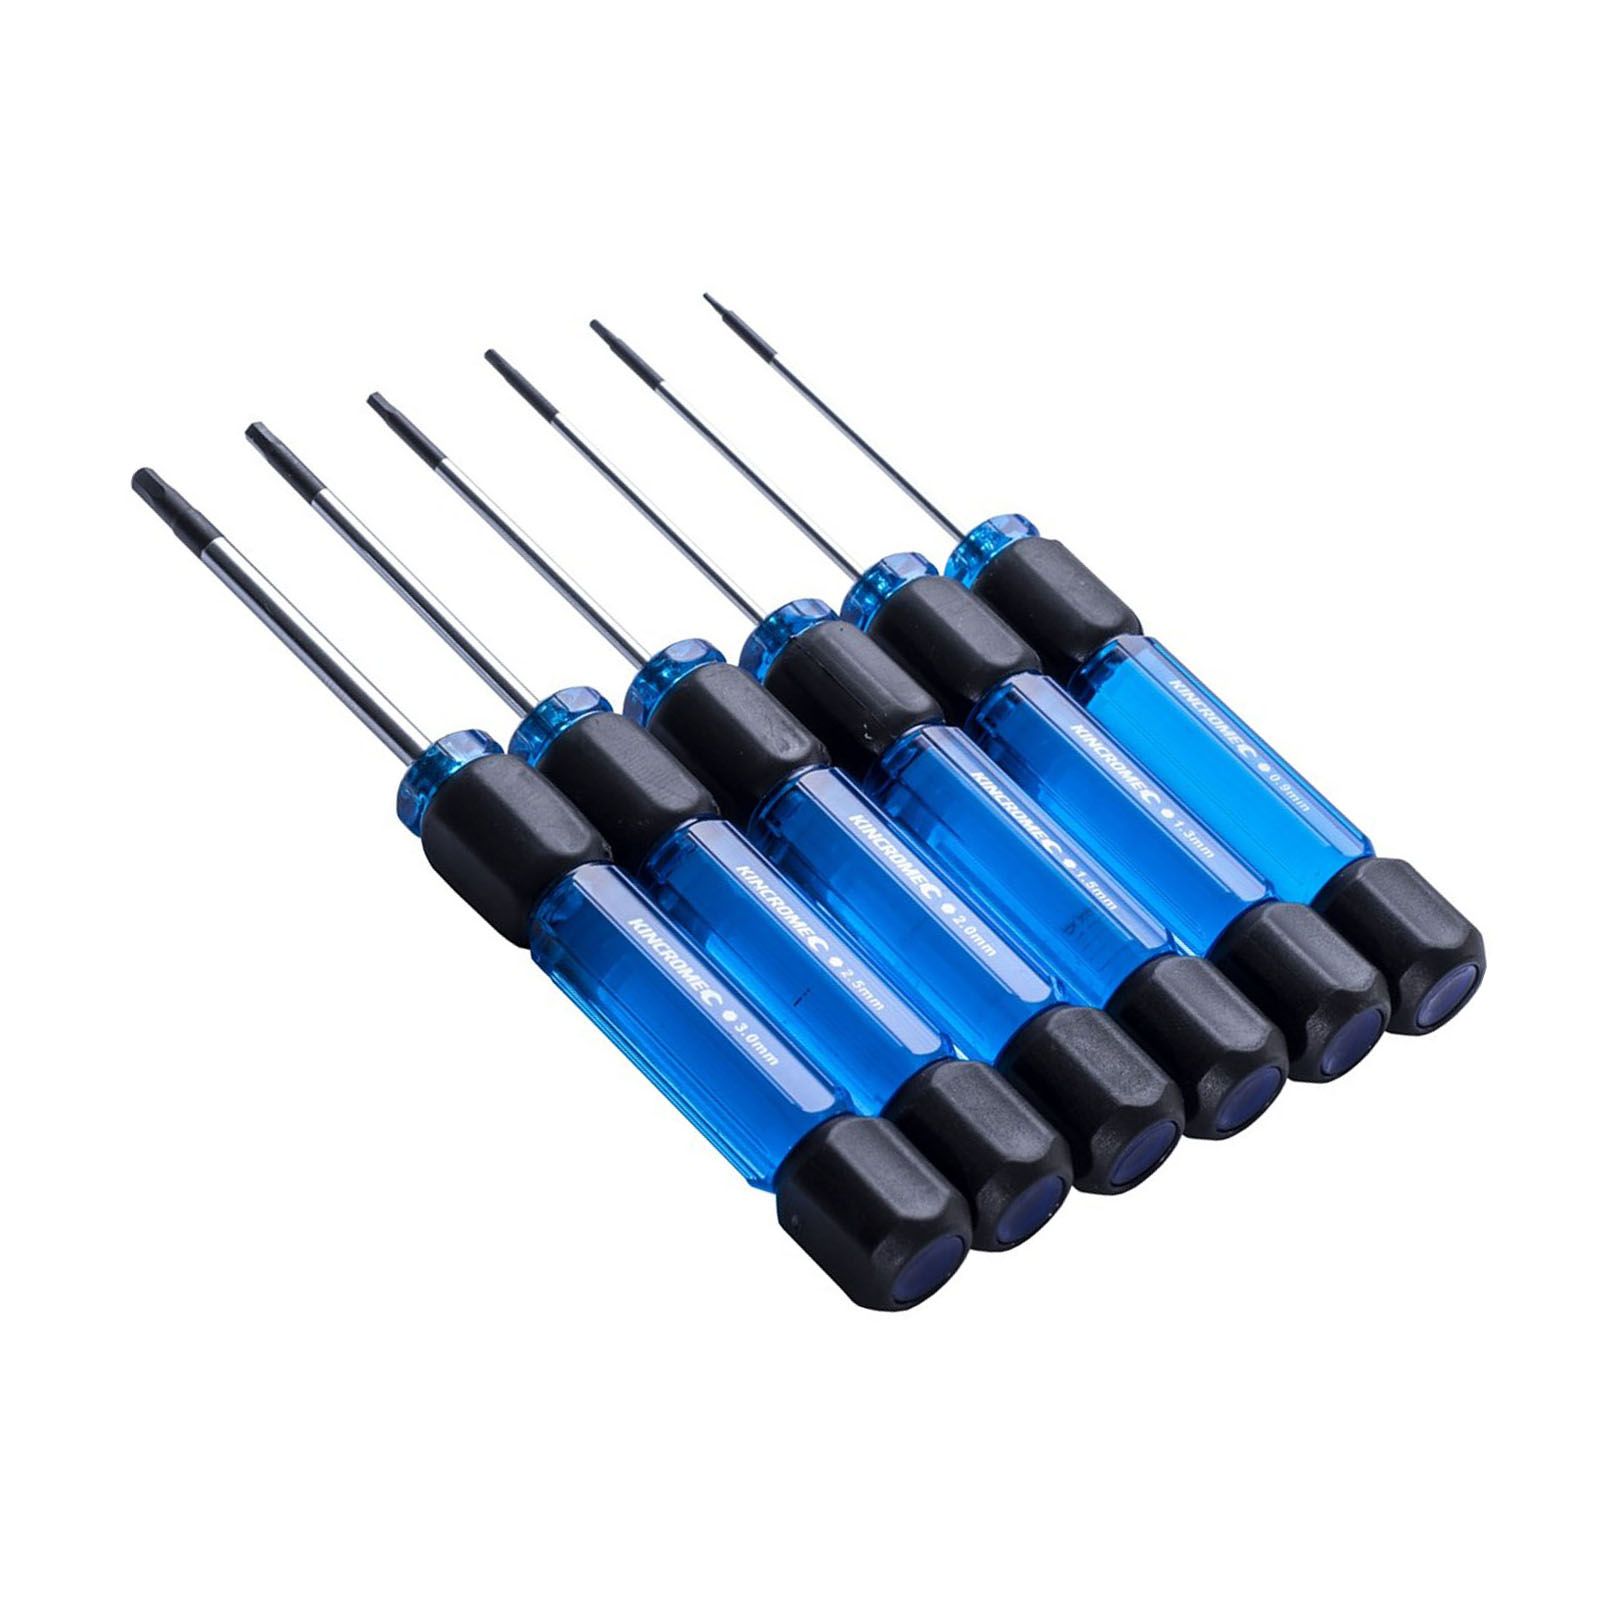screwdriver: (125, 450, 968, 1314), (242, 419, 1071, 1251), (359, 393, 1177, 1191), (475, 344, 1289, 1144), (580, 315, 1392, 1086), (695, 290, 1489, 1037)
